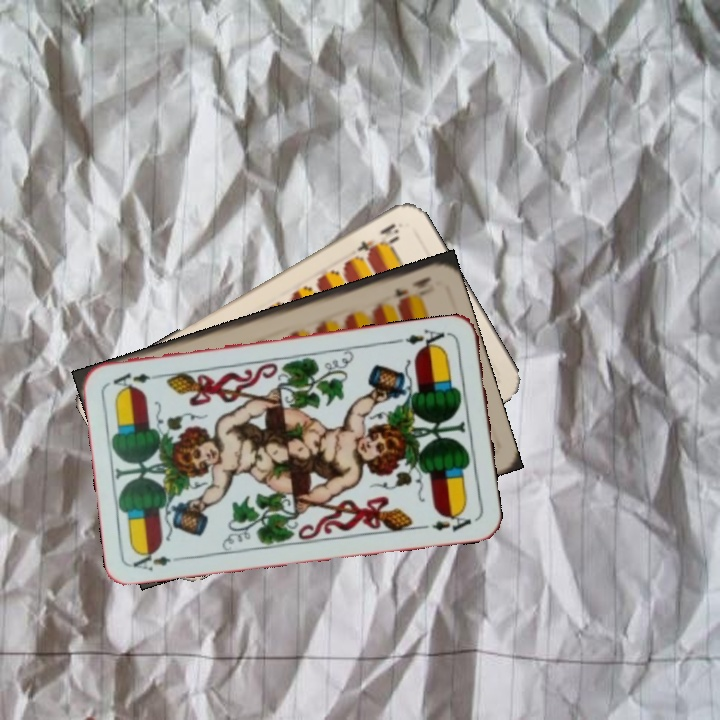E10: (353, 219, 402, 257), (389, 272, 434, 303)
EA: (129, 546, 188, 574), (401, 325, 453, 353)
